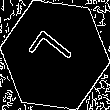L_SE: (28, 28, 82, 82)
